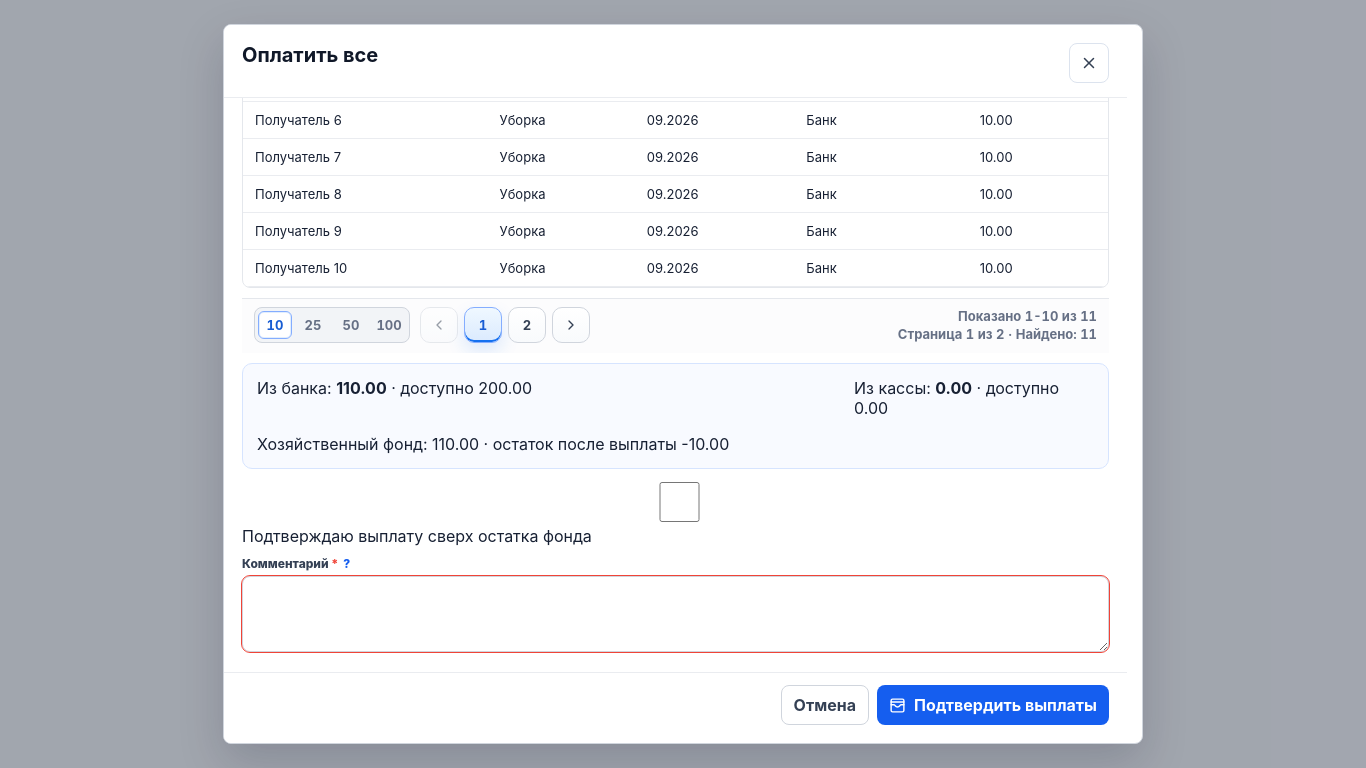
Test case: ExpenseBatchPaymentDialog › recovers from a changed balance without losing the comment and requires renewed fund confirmation
This screenshot has width=1366, height=768.
(page scrolled)
Expected: the table is shown, [243,24,1108,287]
Type "Общая выплата" into the text box named "Комментарий к общей выплате" at (676, 614), box [242,576,1109,652]
Click the checkbox labelled "Подтверждаю выплату сверх остатка фонда" at (680, 502), box [246,482,1113,522]
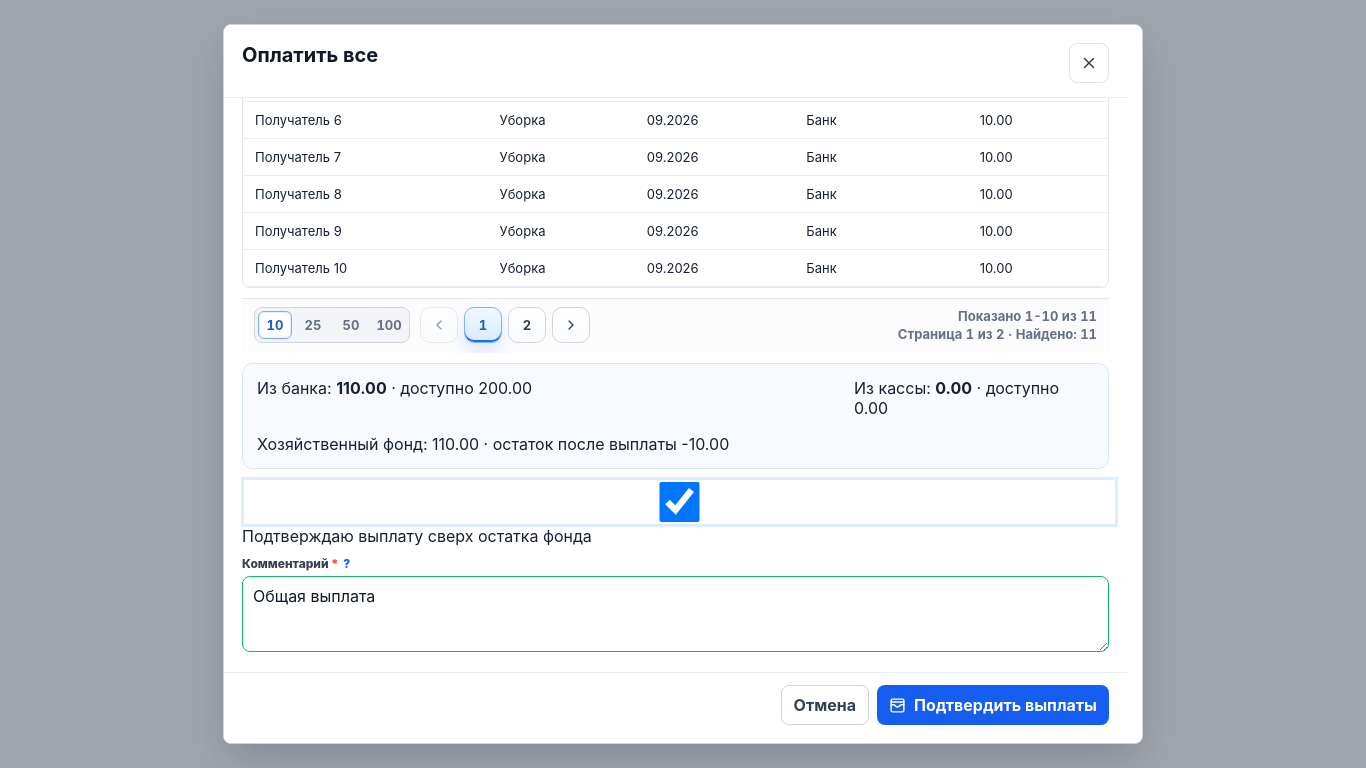
Click the button "Подтвердить выплаты" at (993, 705), box [877,685,1109,725]
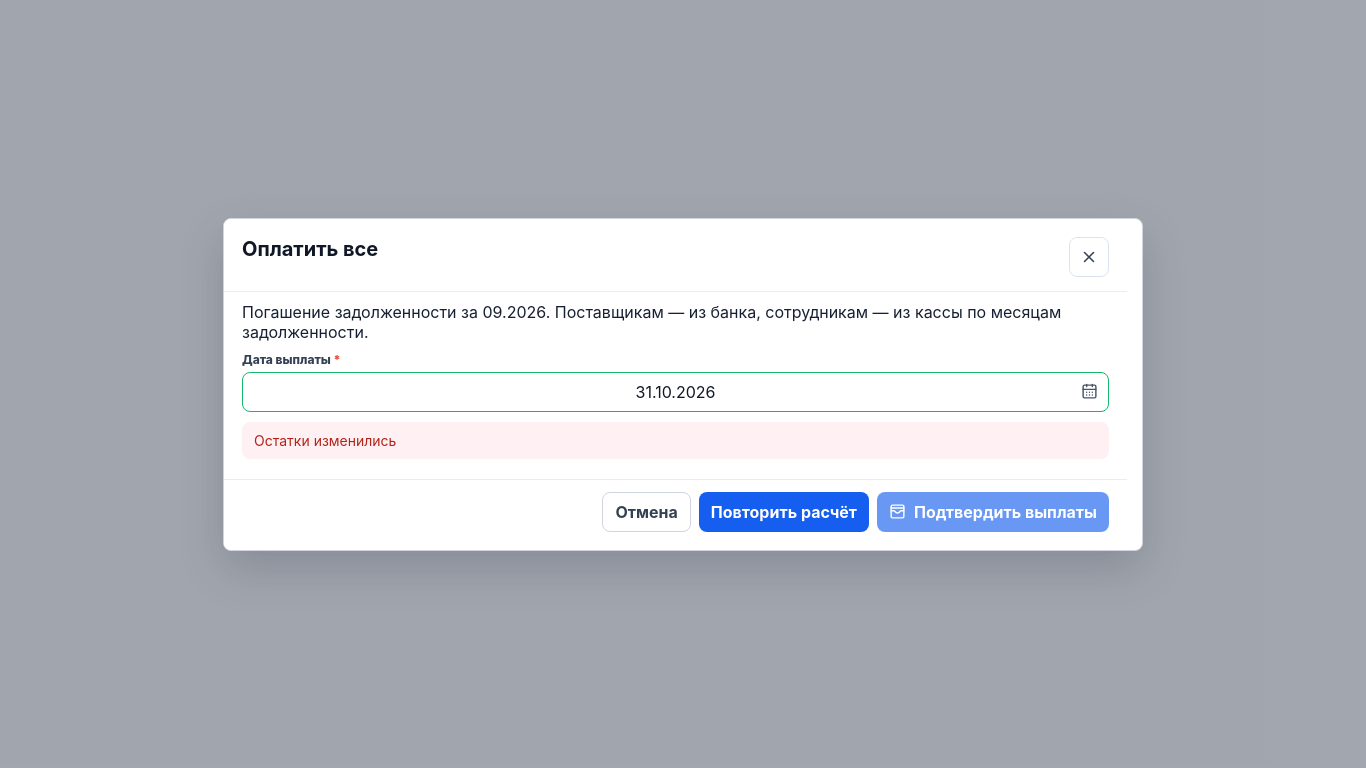
Expected: the message reads "Остатки изменились", [254,432,396,448]
Expected: the button "Подтвердить выплаты" is disabled, [877,492,1109,532]
Click the button "Повторить расчёт" at (784, 512), box [699,492,869,532]
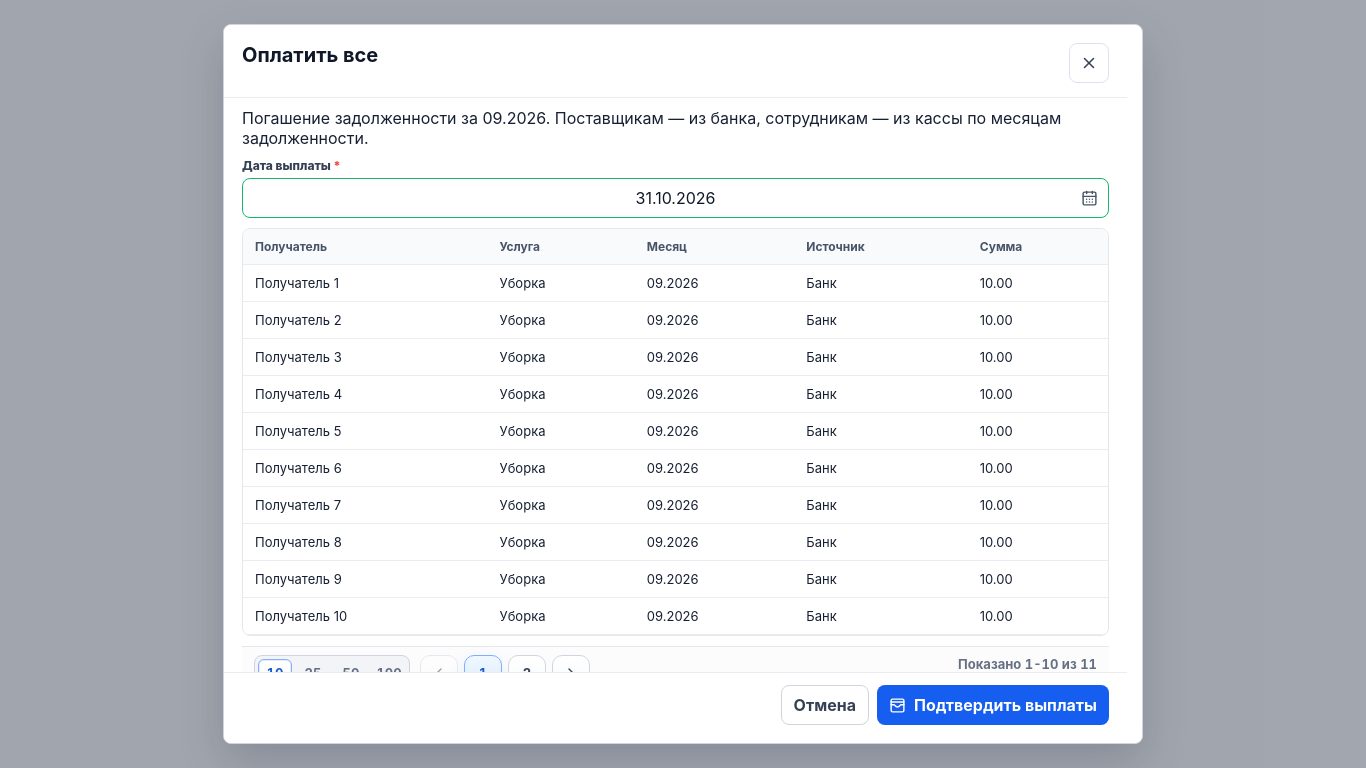
Expected: the table is shown, [243,229,1108,635]
Click the button "Подтвердить выплаты" at (993, 705), box [877,685,1109,725]
(page scrolled)
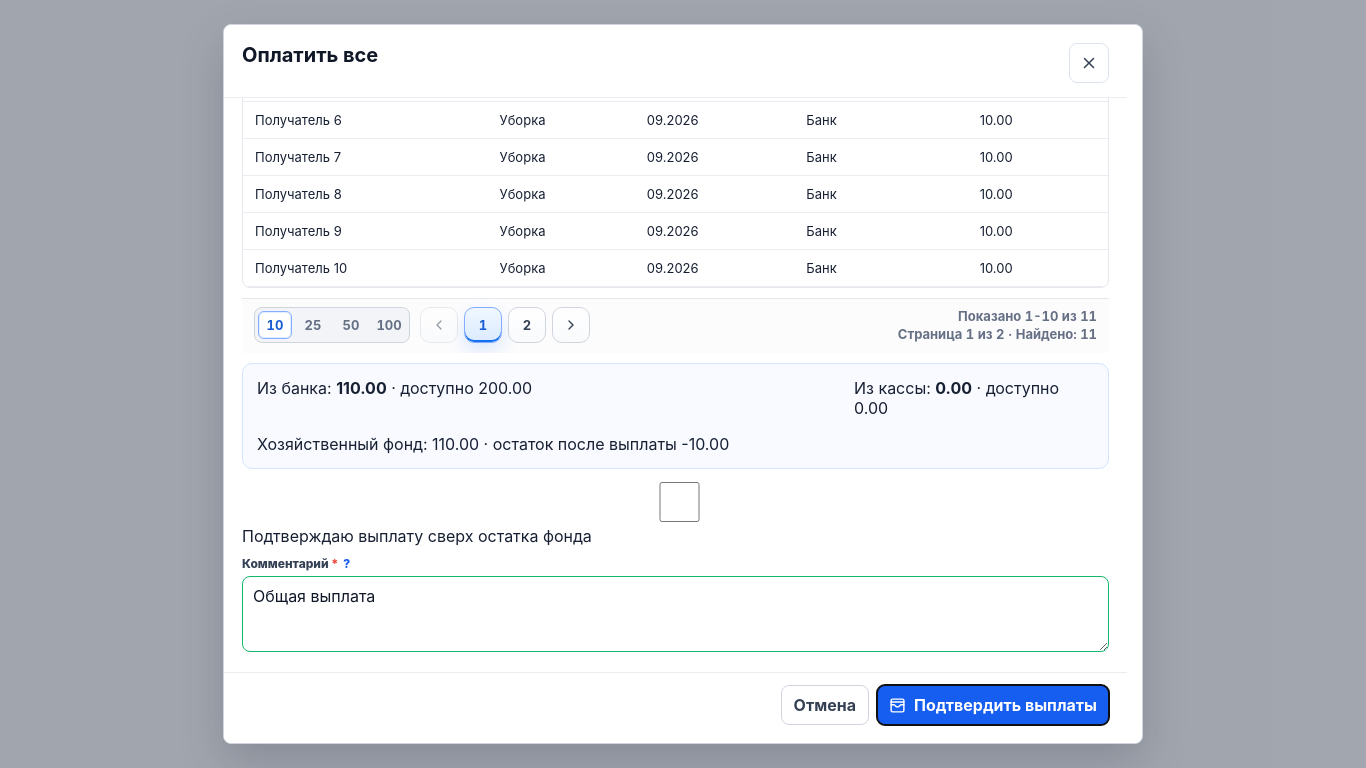
Click the checkbox labelled "Подтверждаю выплату сверх остатка фонда" at (680, 502), box [246,482,1113,522]
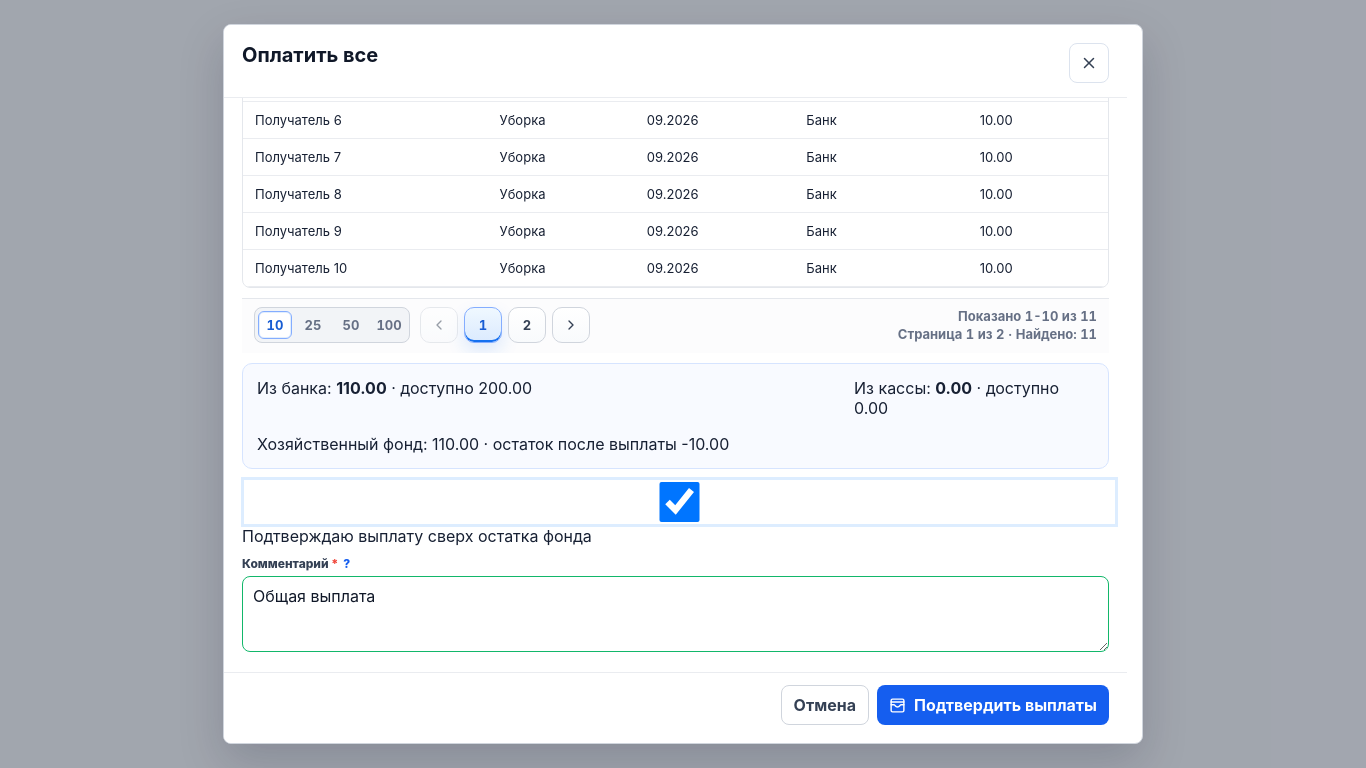
Click the button "Подтвердить выплаты" at (993, 705), box [877,685,1109,725]
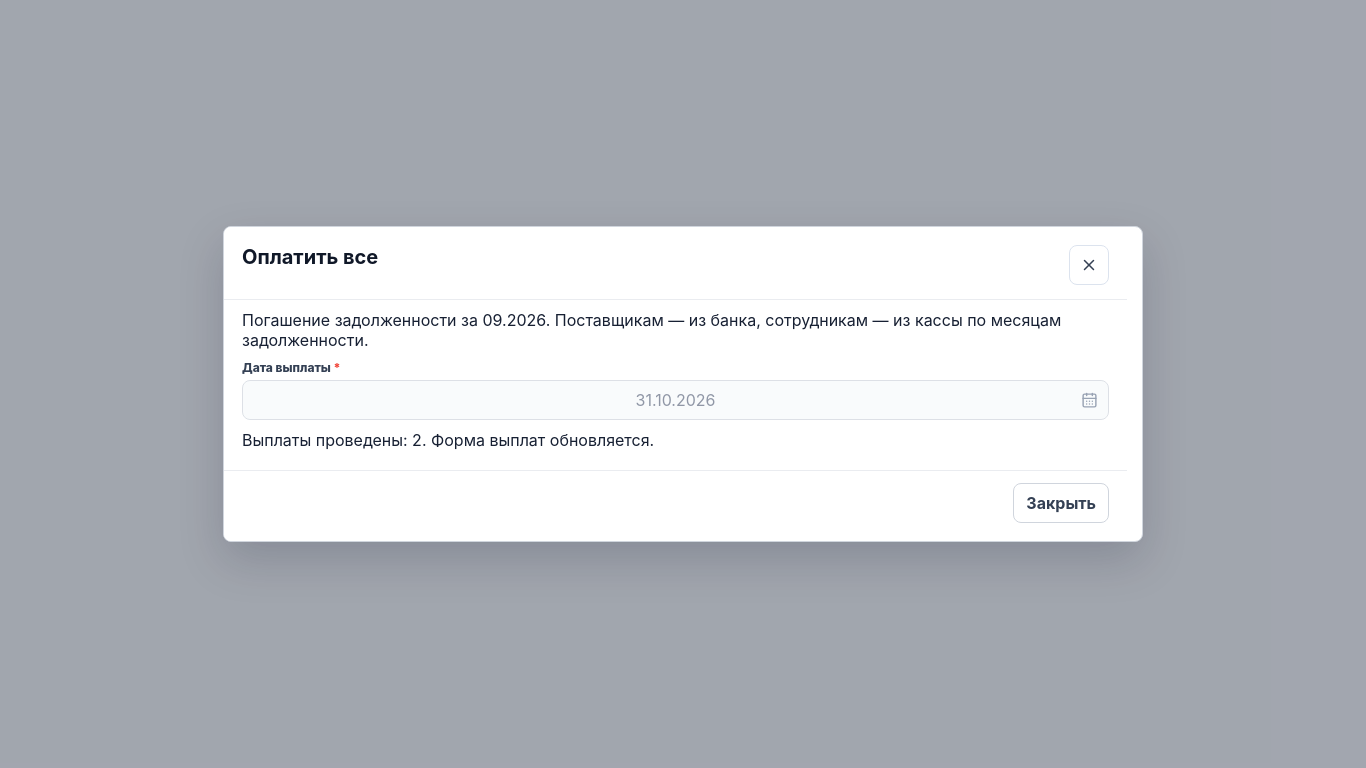
Expected: the text "Выплаты проведены: 2. Форма выплат обновляется." is shown, [242,430,654,450]
